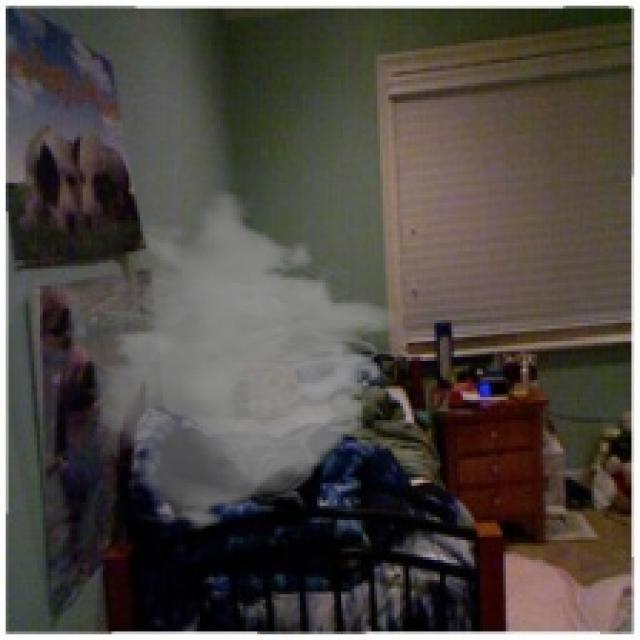Smoke: (59, 188, 412, 532)
